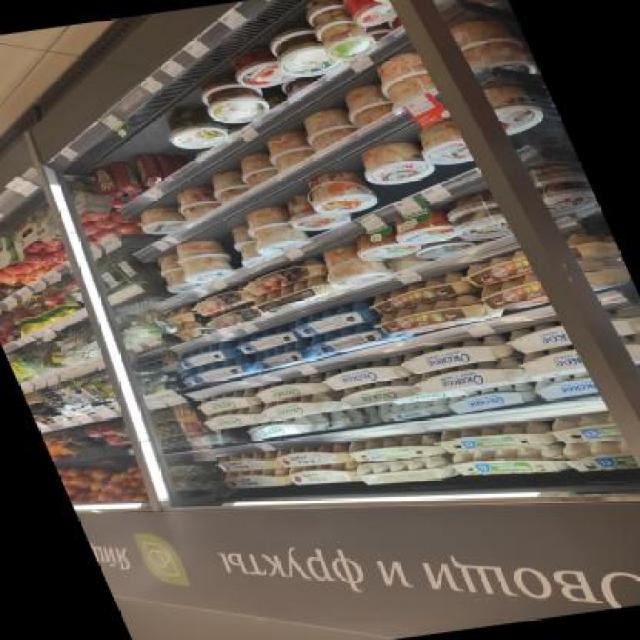Egg: (448, 439, 578, 487), (374, 293, 504, 338), (359, 273, 487, 315), (436, 418, 562, 459), (410, 356, 530, 396), (398, 334, 518, 374), (258, 21, 342, 78), (190, 69, 273, 126), (302, 317, 413, 358), (352, 140, 440, 189), (236, 205, 316, 258), (300, 171, 382, 218), (276, 185, 358, 232), (342, 431, 446, 467), (154, 105, 233, 152), (316, 356, 418, 392), (316, 243, 393, 290), (171, 237, 243, 283), (289, 302, 380, 338), (444, 383, 541, 415), (336, 376, 429, 409), (260, 391, 352, 421), (243, 413, 332, 442), (180, 357, 262, 388), (250, 374, 332, 404), (390, 212, 462, 246), (352, 229, 423, 263), (447, 208, 518, 242), (250, 339, 322, 372), (273, 441, 352, 471), (169, 340, 245, 370), (231, 325, 307, 355), (287, 460, 362, 490), (220, 466, 292, 494), (198, 406, 272, 432), (191, 390, 264, 416), (87, 163, 130, 206), (212, 450, 282, 476), (107, 159, 150, 201), (532, 374, 598, 401)
